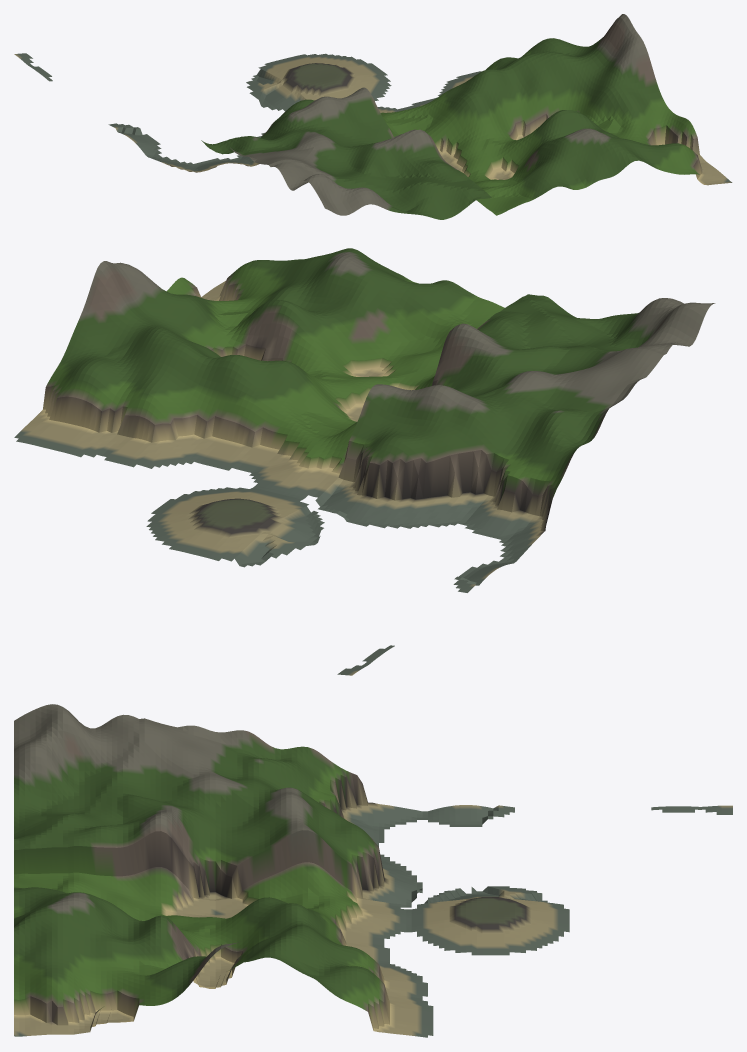
The model's file is coast_tile_x1z3.glb.
3 views of the same model, one above another, from view 1: azimuth 30°, elevation 25°; view 2: azimuth 150°, elevation 25°; view 3: azimuth 270°, elevation 25° (orthographic). The views are drawn at different scales.
Parts seen in each view (by area): view 1: geometry_0; view 2: geometry_0; view 3: geometry_0.
Part boxes in pixels (<box>): geometry_0: <box>14,14,732,219</box>; geometry_0: <box>14,248,715,675</box>; geometry_0: <box>14,704,732,1037</box>.
Bounding box in the file's own units: 600 × 134 × 792.
